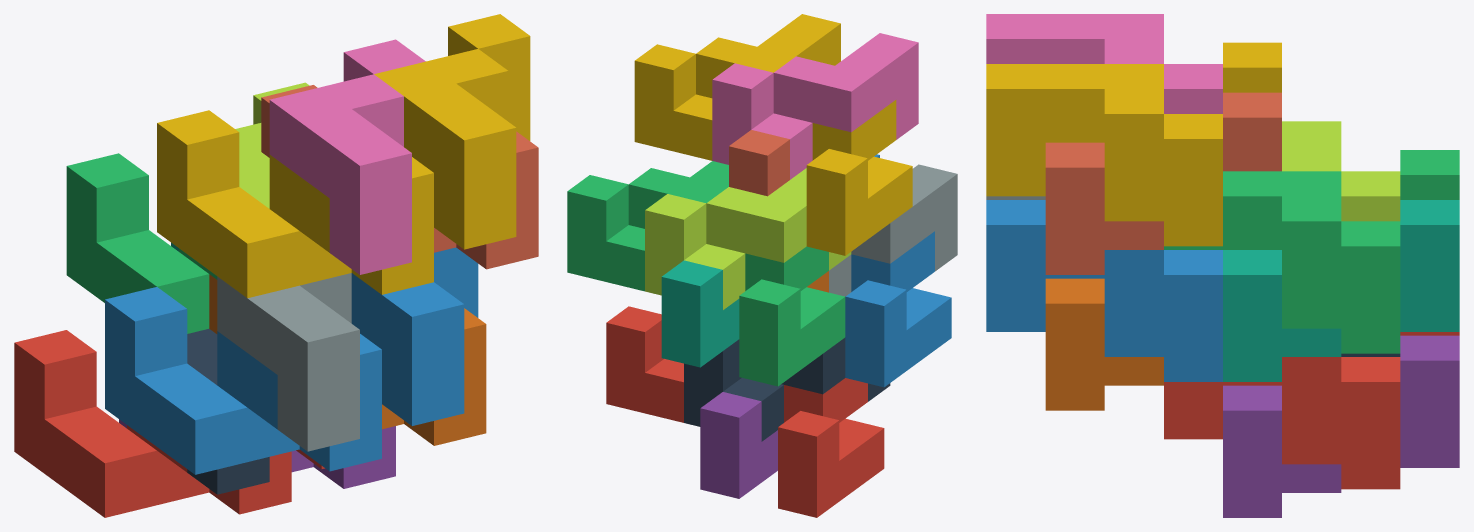
File: tiling.obj
3 views of the same model, side by side, from view 1: azimuth 30°, elevation 25°; view 2: azimuth 150°, elevation 25°; view 3: azimuth 270°, elevation 25° (orthographic). The views are drawn at different scales.
Visible parts, largest first — view 1: copy_1_domain_4, copy_1_domain_2, copy_2_domain_8, copy_2_domain_4, copy_1_domain_1, copy_2_domain_2, copy_1_domain_3, copy_2_domain_6, copy_1_domain_8, copy_1_domain_6, copy_2_domain_1, copy_2_domain_3 (+1 smaller); view 2: copy_2_domain_4, copy_2_domain_3, copy_2_domain_8, copy_1_domain_4, copy_1_domain_2, copy_1_domain_3, copy_1_domain_1, copy_2_domain_7, copy_2_domain_5, copy_1_domain_7, copy_1_domain_5, copy_2_domain_1 (+2 smaller); view 3: copy_2_domain_8, copy_2_domain_6, copy_2_domain_7, copy_2_domain_5, copy_1_domain_5, copy_1_domain_7, copy_1_domain_8, copy_2_domain_4, copy_1_domain_6, copy_2_domain_3, copy_1_domain_4, copy_1_domain_3.
Boxes of the visible parts, left/top/right/bottom form: copy_1_domain_4: left=157, top=110, right=433, bottom=298; copy_1_domain_2: left=105, top=287, right=381, bottom=474; copy_2_domain_8: left=374, top=14, right=530, bottom=249; copy_2_domain_4: left=269, top=39, right=425, bottom=274; copy_1_domain_1: left=14, top=330, right=291, bottom=517; copy_2_domain_2: left=217, top=273, right=359, bottom=451; copy_1_domain_3: left=66, top=153, right=217, bottom=333; copy_2_domain_6: left=351, top=247, right=478, bottom=425; copy_1_domain_8: left=261, top=85, right=538, bottom=269; copy_1_domain_6: left=209, top=274, right=486, bottom=445; copy_2_domain_1: left=187, top=329, right=269, bottom=494; copy_2_domain_3: left=235, top=82, right=309, bottom=208; copy_2_domain_4: left=712, top=33, right=918, bottom=179; copy_2_domain_3: left=645, top=168, right=851, bottom=309; copy_2_domain_8: left=634, top=14, right=840, bottom=160; copy_1_domain_4: left=806, top=100, right=912, bottom=255; copy_1_domain_2: left=845, top=231, right=951, bottom=387; copy_1_domain_3: left=739, top=246, right=845, bottom=386; copy_1_domain_1: left=778, top=378, right=884, bottom=517; copy_2_domain_7: left=567, top=161, right=728, bottom=291; copy_2_domain_5: left=606, top=306, right=683, bottom=422; copy_1_domain_7: left=661, top=260, right=739, bottom=367; copy_1_domain_5: left=700, top=392, right=777, bottom=498; copy_2_domain_1: left=684, top=337, right=890, bottom=441; copy_2_domain_8: left=986, top=64, right=1222, bottom=246; copy_2_domain_6: left=986, top=200, right=1222, bottom=381; copy_2_domain_7: left=1164, top=171, right=1400, bottom=353; copy_2_domain_5: left=1164, top=357, right=1400, bottom=489; copy_1_domain_5: left=1223, top=335, right=1459, bottom=517; copy_1_domain_7: left=1223, top=200, right=1459, bottom=381; copy_1_domain_8: left=1045, top=92, right=1281, bottom=274; copy_2_domain_4: left=986, top=14, right=1222, bottom=113; copy_1_domain_6: left=1045, top=278, right=1163, bottom=410; copy_2_domain_3: left=1282, top=121, right=1400, bottom=221; copy_1_domain_4: left=1223, top=42, right=1281, bottom=92; copy_1_domain_3: left=1400, top=150, right=1459, bottom=199.
Size of the model in its own units: 7 by 8 by 8.
